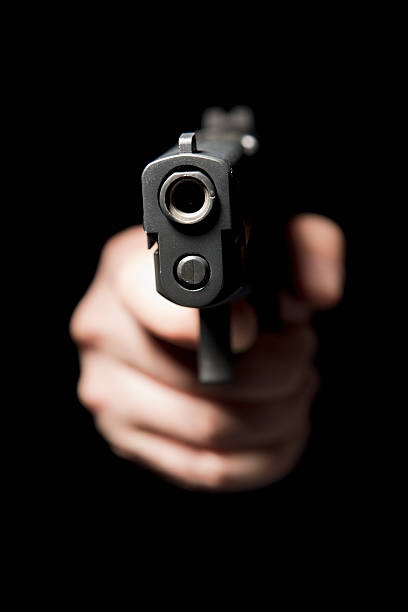pistol: (135, 102, 297, 438)
